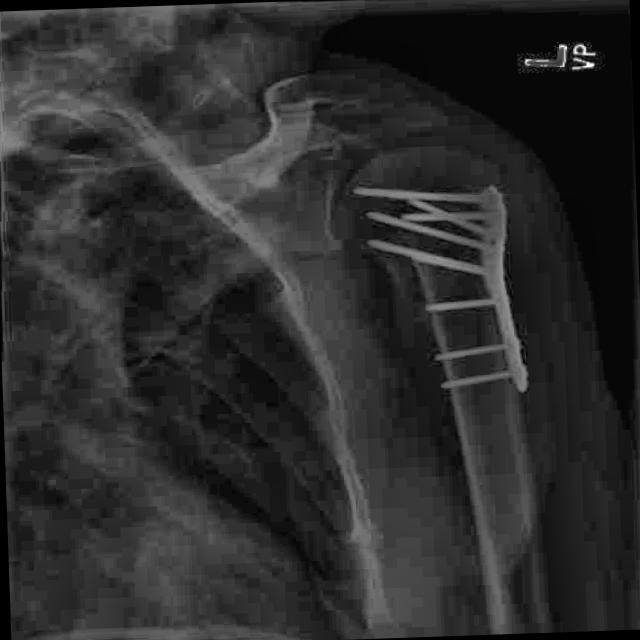shoulder fracture: (225, 79, 334, 171), (359, 252, 449, 307)
